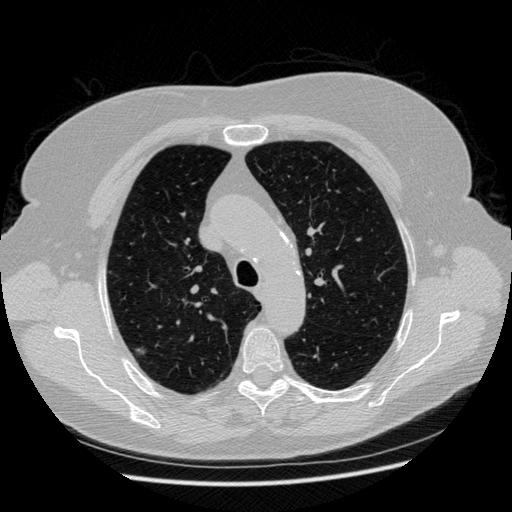nodule: (133, 344, 146, 357)
